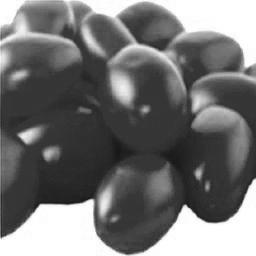bukan telur: (94, 45, 188, 150), (93, 150, 187, 255), (183, 110, 256, 220), (0, 32, 84, 106)
